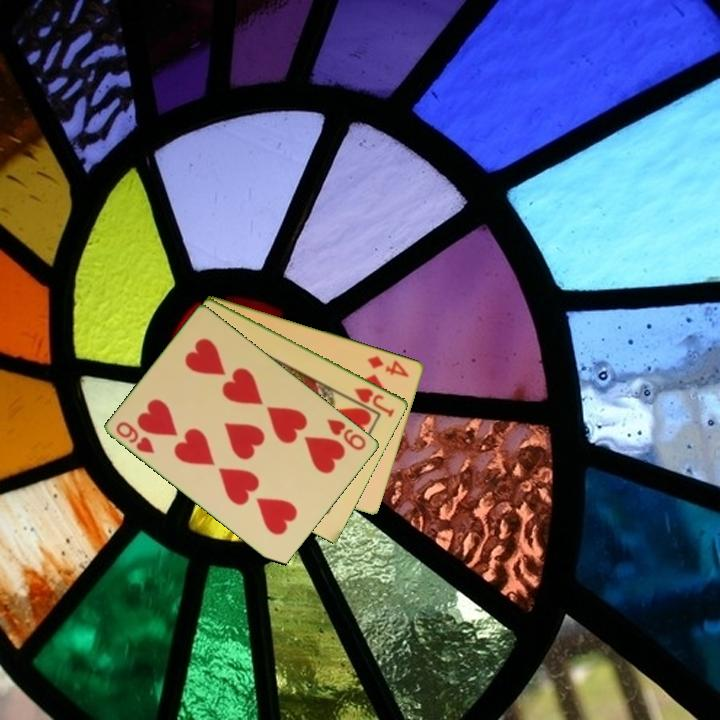4d: (364, 352, 412, 380)
9h: (323, 415, 369, 453), (113, 418, 158, 456)
Jh: (351, 384, 397, 420)
